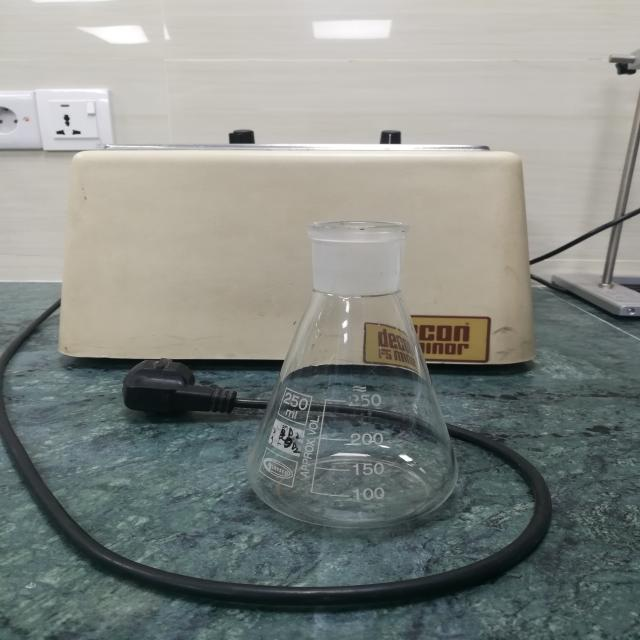Conical_Flask: (213, 197, 497, 559)
